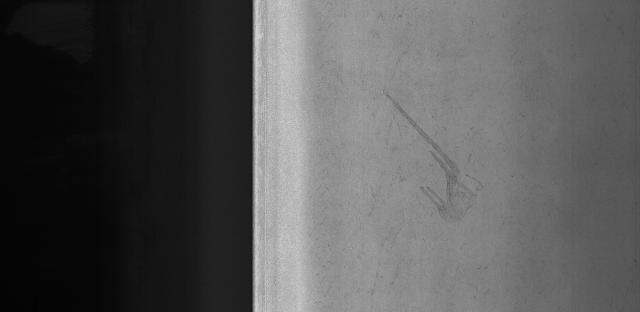water_spot: (376, 82, 500, 232)
